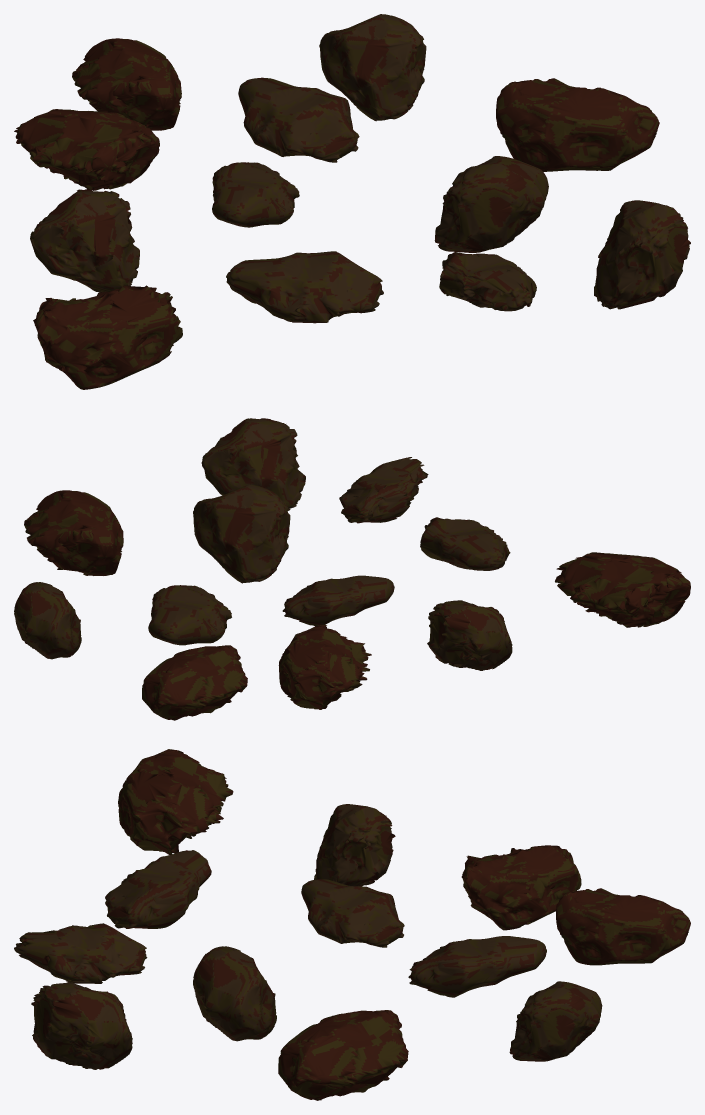
File: asteroidGroup.fbx
The picture shows the model from 3 angles, top to bottom: view 1: azimuth 30°, elevation 25°; view 2: azimuth 150°, elevation 25°; view 3: azimuth 270°, elevation 25°; orthographic projection. The views are drawn at different scales.
Visible parts, largest first — view 1: Rock2, Rock2.002, Rock2.003, Rock3.001, Rock3.003, Rock1.002, Rock3, Rock3.002, Rock1, Rock2.001, Rock1.001, Rock1.003; view 2: Rock2.002, Rock3, Rock2, Rock3.002, Rock2.001, Rock2.003, Rock3.003, Rock1, Rock3.001, Rock1.003, Rock1.001, Rock1.002; view 3: Rock2, Rock2.002, Rock2.001, Rock2.003, Rock3.002, Rock3, Rock1.003, Rock1, Rock1.002, Rock3.001, Rock1.001, Rock3.003.
Boxes of the visible parts, <box> form: Rock2: <box>496,78,659,171</box>; Rock2.002: <box>33,285,182,389</box>; Rock2.003: <box>14,109,159,190</box>; Rock3.001: <box>319,14,426,121</box>; Rock3.003: <box>30,189,139,292</box>; Rock1.002: <box>226,251,383,323</box>; Rock3: <box>434,156,548,252</box>; Rock3.002: <box>594,200,690,309</box>; Rock1: <box>238,77,359,162</box>; Rock2.001: <box>72,38,181,130</box>; Rock1.001: <box>212,162,299,227</box>; Rock1.003: <box>439,252,536,311</box>; Rock2.002: <box>555,552,690,627</box>; Rock3: <box>193,484,290,583</box>; Rock2: <box>24,490,123,575</box>; Rock3.002: <box>201,418,305,510</box>; Rock2.001: <box>142,645,247,720</box>; Rock2.003: <box>278,625,371,709</box>; Rock3.003: <box>427,600,512,670</box>; Rock1: <box>148,585,231,645</box>; Rock3.001: <box>14,582,81,659</box>; Rock1.003: <box>339,457,428,523</box>; Rock1.001: <box>282,575,394,626</box>; Rock1.002: <box>420,517,510,570</box>; Rock2: <box>278,1010,408,1100</box>; Rock2.002: <box>118,749,233,854</box>; Rock2.001: <box>556,888,690,965</box>; Rock2.003: <box>461,845,581,930</box>; Rock3.002: <box>31,982,132,1069</box>; Rock3: <box>193,946,276,1041</box>; Rock1.003: <box>14,923,147,983</box>; Rock1: <box>408,936,546,997</box>; Rock1.002: <box>105,850,211,928</box>; Rock3.001: <box>509,981,602,1061</box>; Rock1.001: <box>301,879,404,947</box>; Rock3.003: <box>314,804,395,886</box>.
Size of the model in its own units: 2170 by 285 by 1994.
